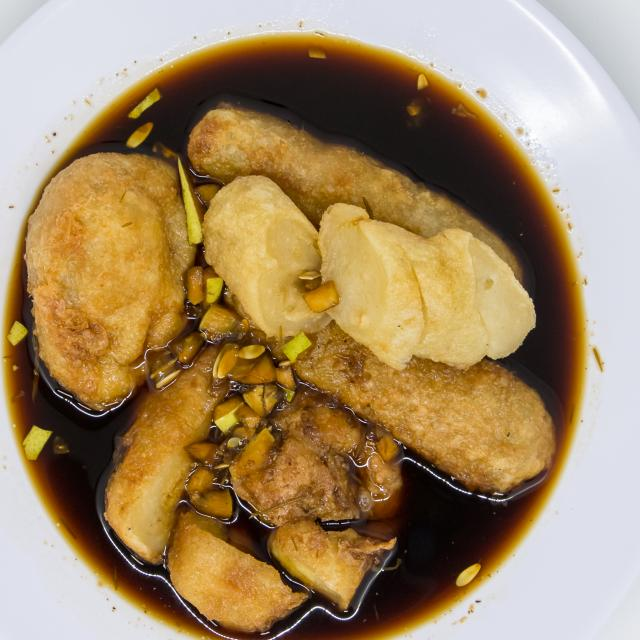Pempek-Palembang: (17, 86, 560, 631)
